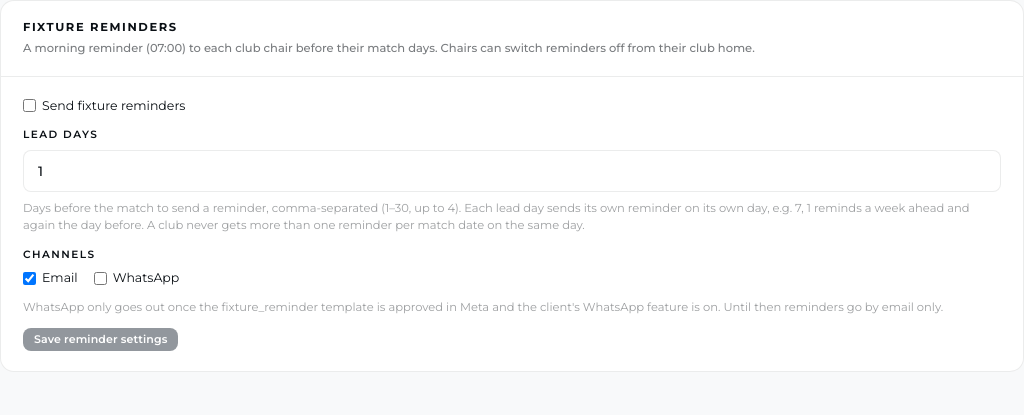
Scenario: FixtureRemindersCard › shows the server error when the save is rejected
Click the checkbox labelled "Send fixture reminders" at (30, 106), box x1=23 y1=99 x2=36 y2=112
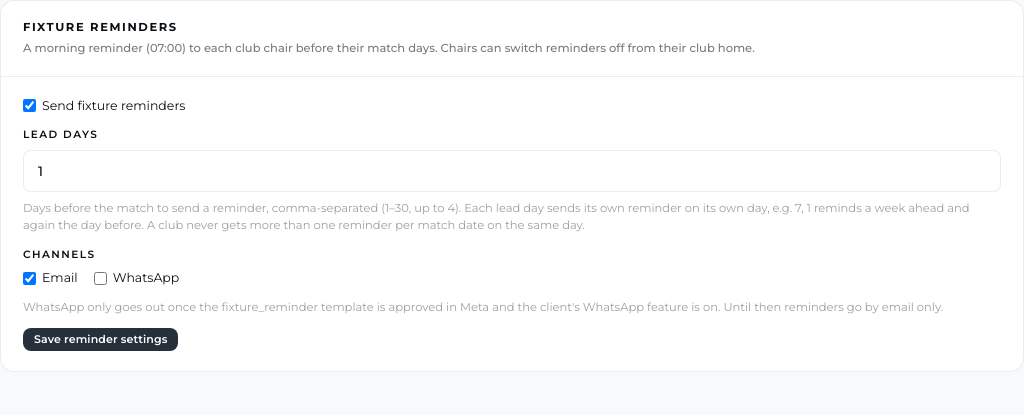
Click the button "Save reminder settings" at (101, 340), box x1=23 y1=328 x2=178 y2=351
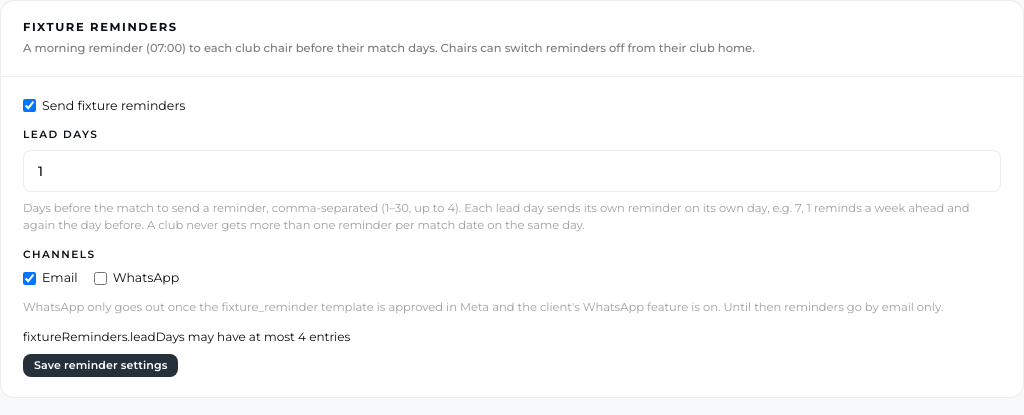
Result: the text "fixtureReminders.leadDays may have at most 4 entries" is shown at x1=23 y1=329 x2=350 y2=344
